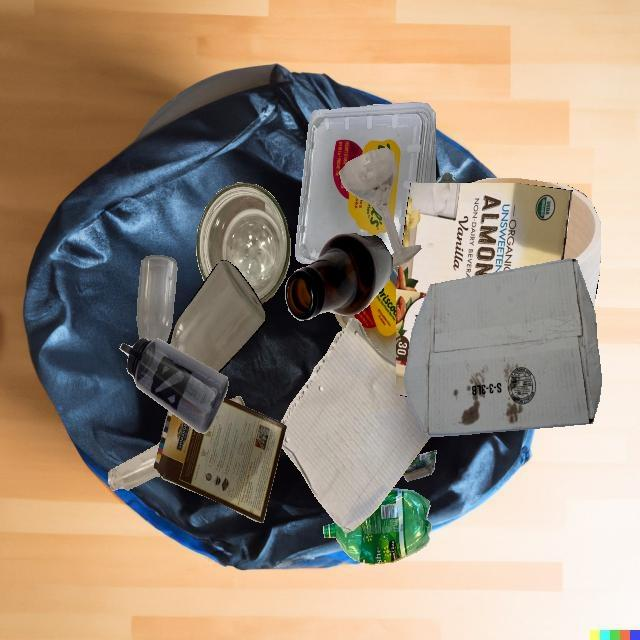cardboard: (396, 183, 572, 396), (404, 259, 602, 437), (154, 397, 286, 523), (403, 450, 437, 482)
combustible waste: (466, 178, 601, 308)
glass: (196, 182, 291, 304), (169, 260, 266, 373), (339, 147, 421, 268), (285, 233, 393, 320), (137, 255, 177, 343), (108, 441, 160, 490)
paper: (280, 318, 431, 532)
plastic: (295, 102, 436, 264), (119, 338, 229, 434), (323, 488, 431, 564), (336, 267, 399, 364)
